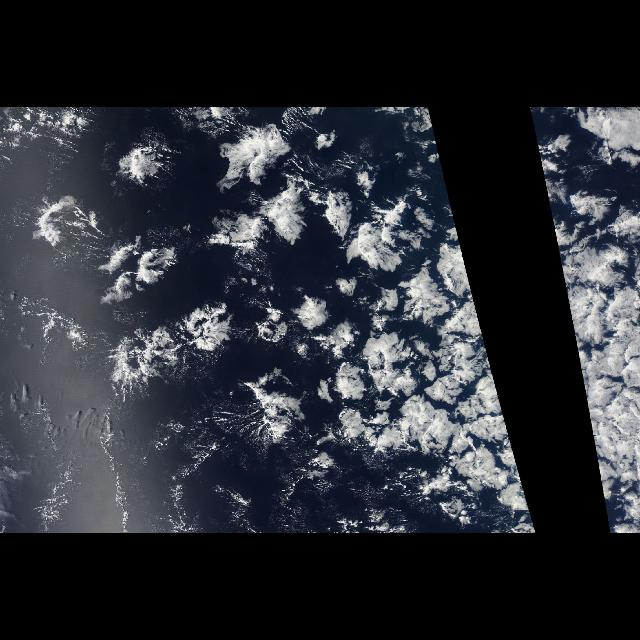Flower: (114, 137, 508, 496)
